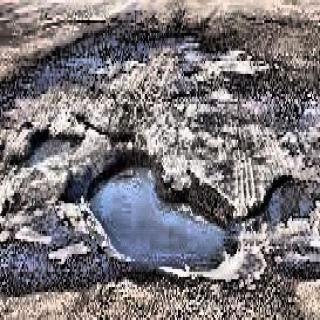crack: (78, 112, 110, 140)
pothole: (90, 148, 240, 276), (258, 170, 320, 236), (19, 124, 86, 172)
